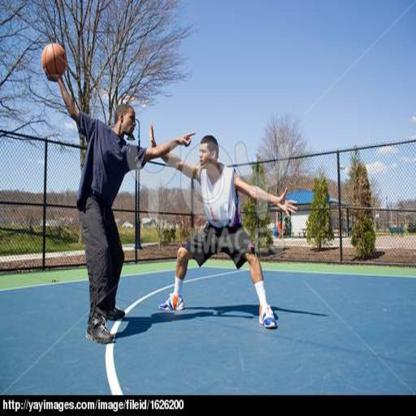face: (124, 111, 136, 137), (201, 144, 212, 169)
